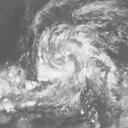cyclone: (33, 25, 106, 93)
